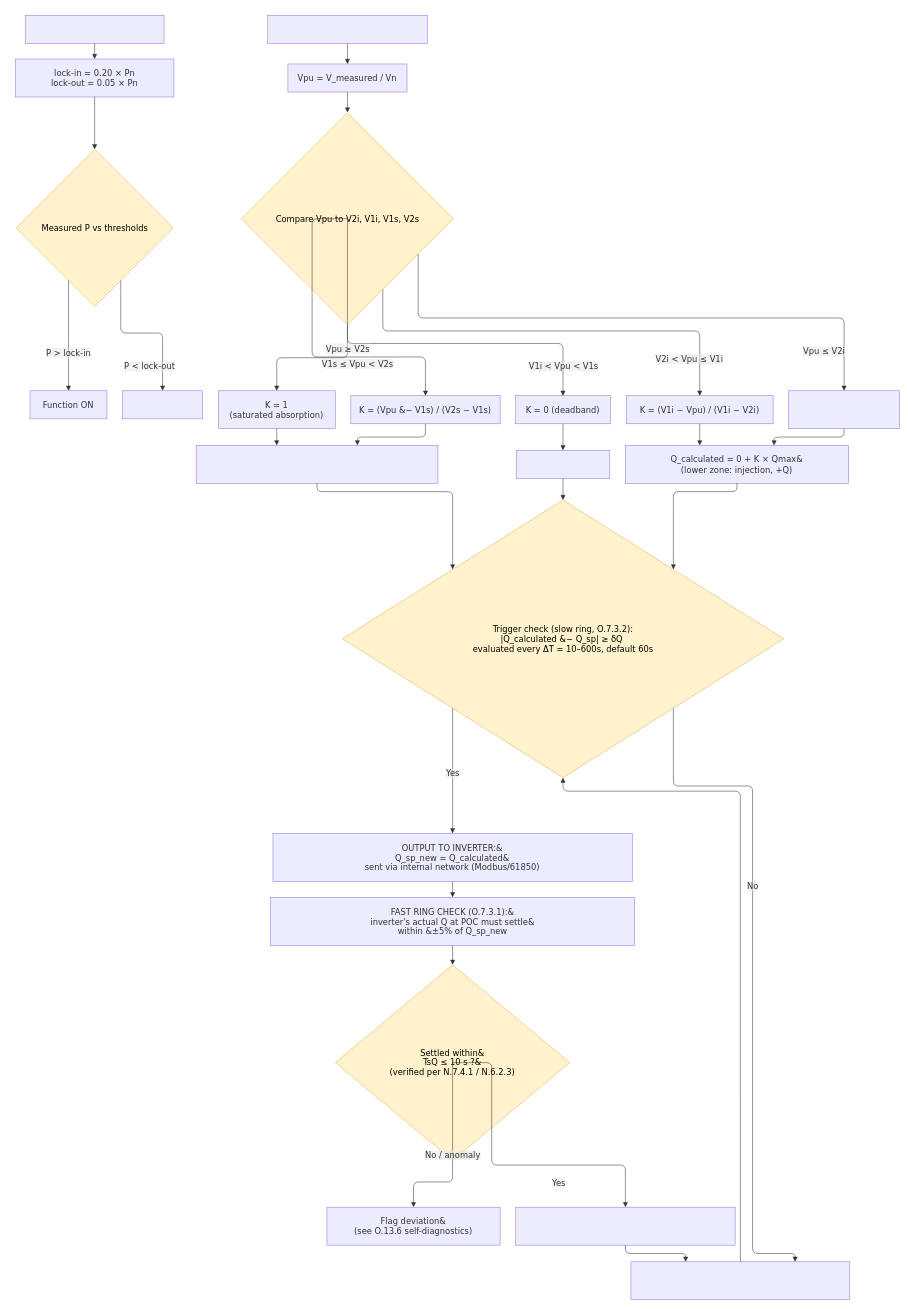
This 908x1309 diagram has some shape labels left out. Each missing label, with the box of its shape:
Function OFF: (122, 390, 203, 419)
K = 1 (saturated injection): (788, 390, 899, 429)
No update &— Q_sp unchanged& wait for next &ΔT cycle: (630, 1261, 850, 1300)
Plant rated active power: Pn: (25, 15, 164, 43)
Q_calculated = 0: (516, 450, 610, 478)
Q_calculated = 0 − K × Qmax (upper zone: absorption, −Q): (196, 445, 438, 483)
Set-point achieved &—& inverter now tracking Q_sp_new: (515, 1207, 735, 1245)
Vn (nominal voltage), V_measured: (267, 15, 427, 43)
